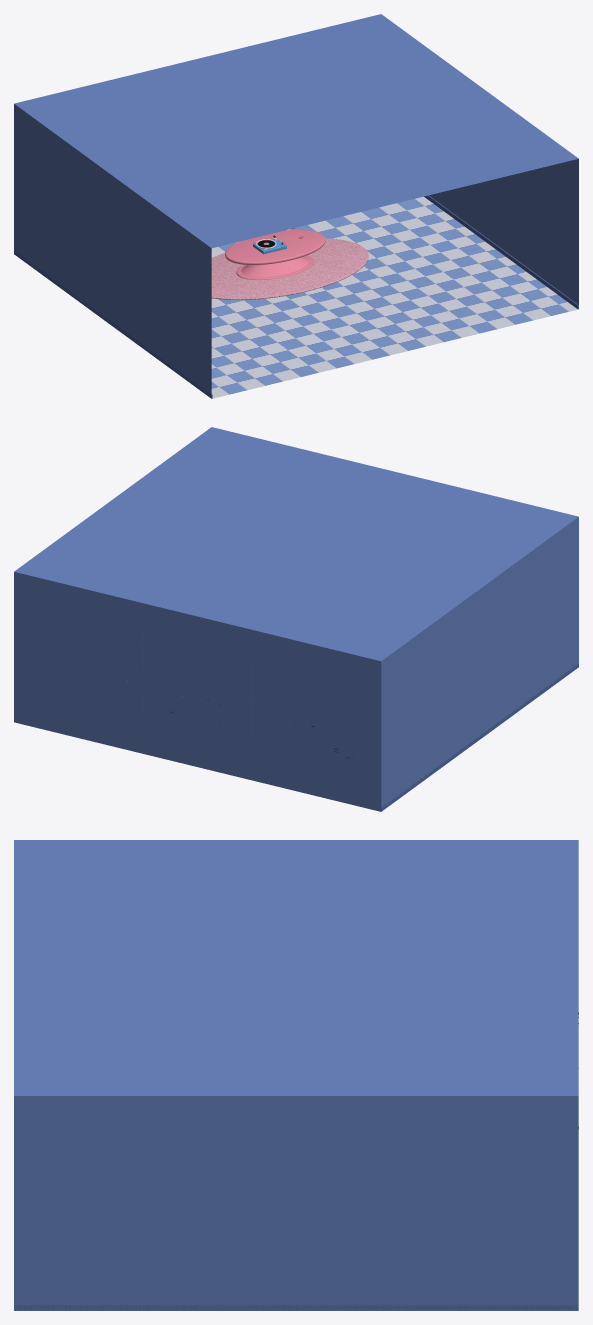
The model's file is room.glb.
The picture shows the model from 3 angles, top to bottom: view 1: azimuth 30°, elevation 25°; view 2: azimuth 150°, elevation 25°; view 3: azimuth 270°, elevation 25°; orthographic projection. The views are drawn at different scales.
Visible parts, largest first — view 1: Ceiling, Floor, LeftWall, RightWall, Rug, TableTop, Baseboard_L, Baseboard_R, TablePedestal; view 2: Ceiling, BackWall, LeftWall, Baseboard_L; view 3: Ceiling, RightWall, Baseboard_R.
Boxes of the visible parts, x1,y1,x2,y2 form: Ceiling: (14,14,578,248); Floor: (211,196,577,398); LeftWall: (14,104,211,397); RightWall: (429,159,578,304); Rug: (211,238,368,299); TableTop: (225,230,325,264); Baseboard_L: (14,251,212,398); Baseboard_R: (424,195,578,309); TablePedestal: (241,256,309,277); Ceiling: (14,427,578,661); BackWall: (14,572,381,811); LeftWall: (381,517,578,810); Baseboard_L: (380,663,578,811); Ceiling: (14,840,578,1095); RightWall: (14,1096,578,1310); Baseboard_R: (14,1305,578,1310).
Bounding box in the file's own units: 7.4 × 2.9 × 6.91.
34 materials, 6 textured.
